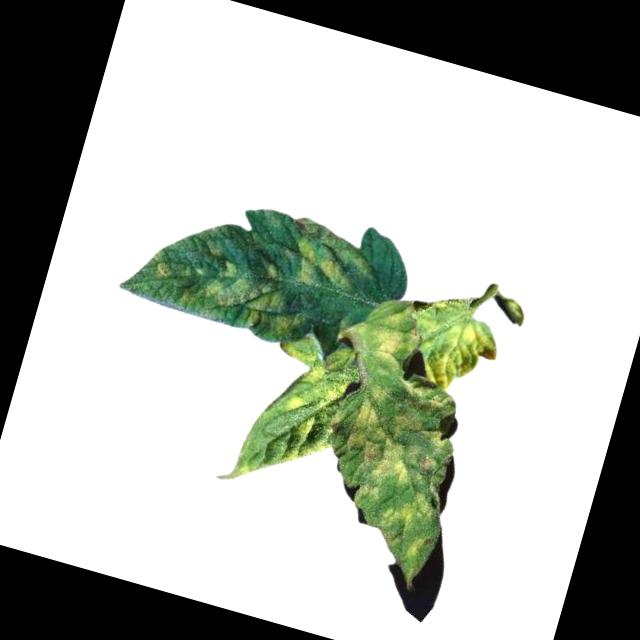Leaf_Mold: (302, 364, 477, 583), (129, 230, 319, 349), (232, 350, 354, 503), (397, 286, 510, 403), (277, 212, 381, 304), (353, 291, 423, 378)
